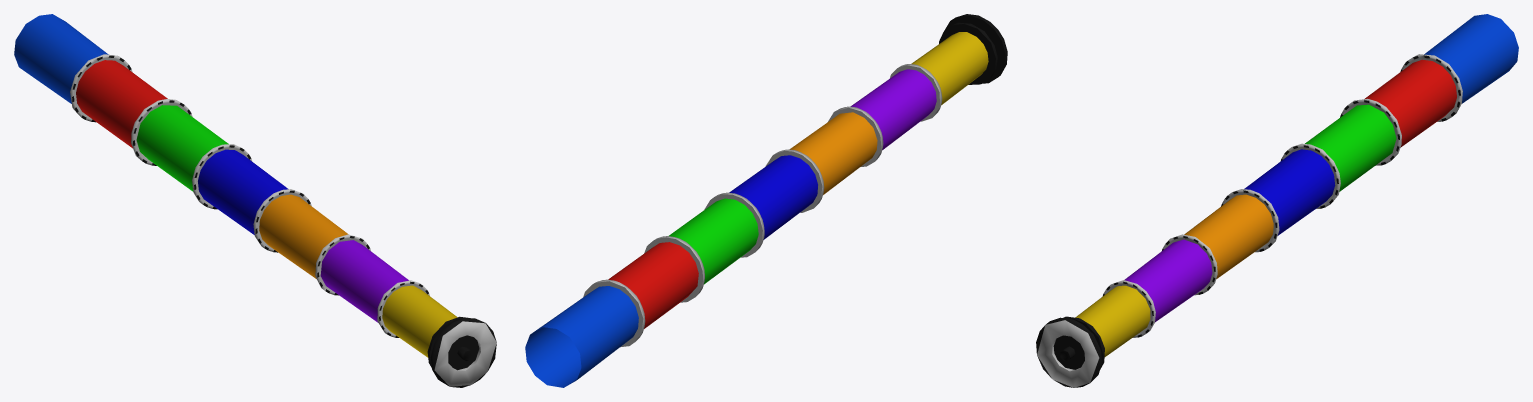
The model's file is lulatsch.obj.
The picture shows the model from 3 angles, left to right: view 1: azimuth 30°, elevation 25°; view 2: azimuth 150°, elevation 25°; view 3: azimuth 330°, elevation 25°; orthographic projection.
Parts seen in each view (by area): view 1: Circle; view 2: Circle; view 3: Circle.
Part boxes in pixels (bbox=[...]): Circle: bbox=[14, 14, 496, 387]; Circle: bbox=[525, 14, 1007, 387]; Circle: bbox=[1036, 14, 1518, 387].
Bounding box in the file's own units: 24.9 × 24.9 × 287.
